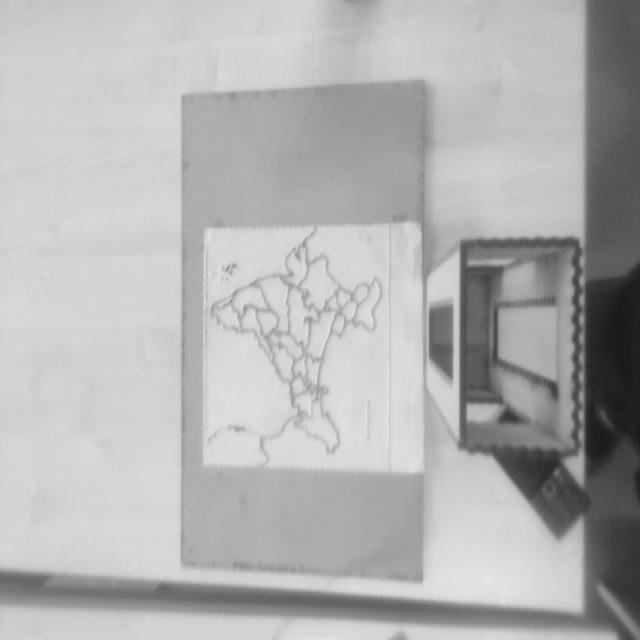map: (204, 224, 389, 472)
